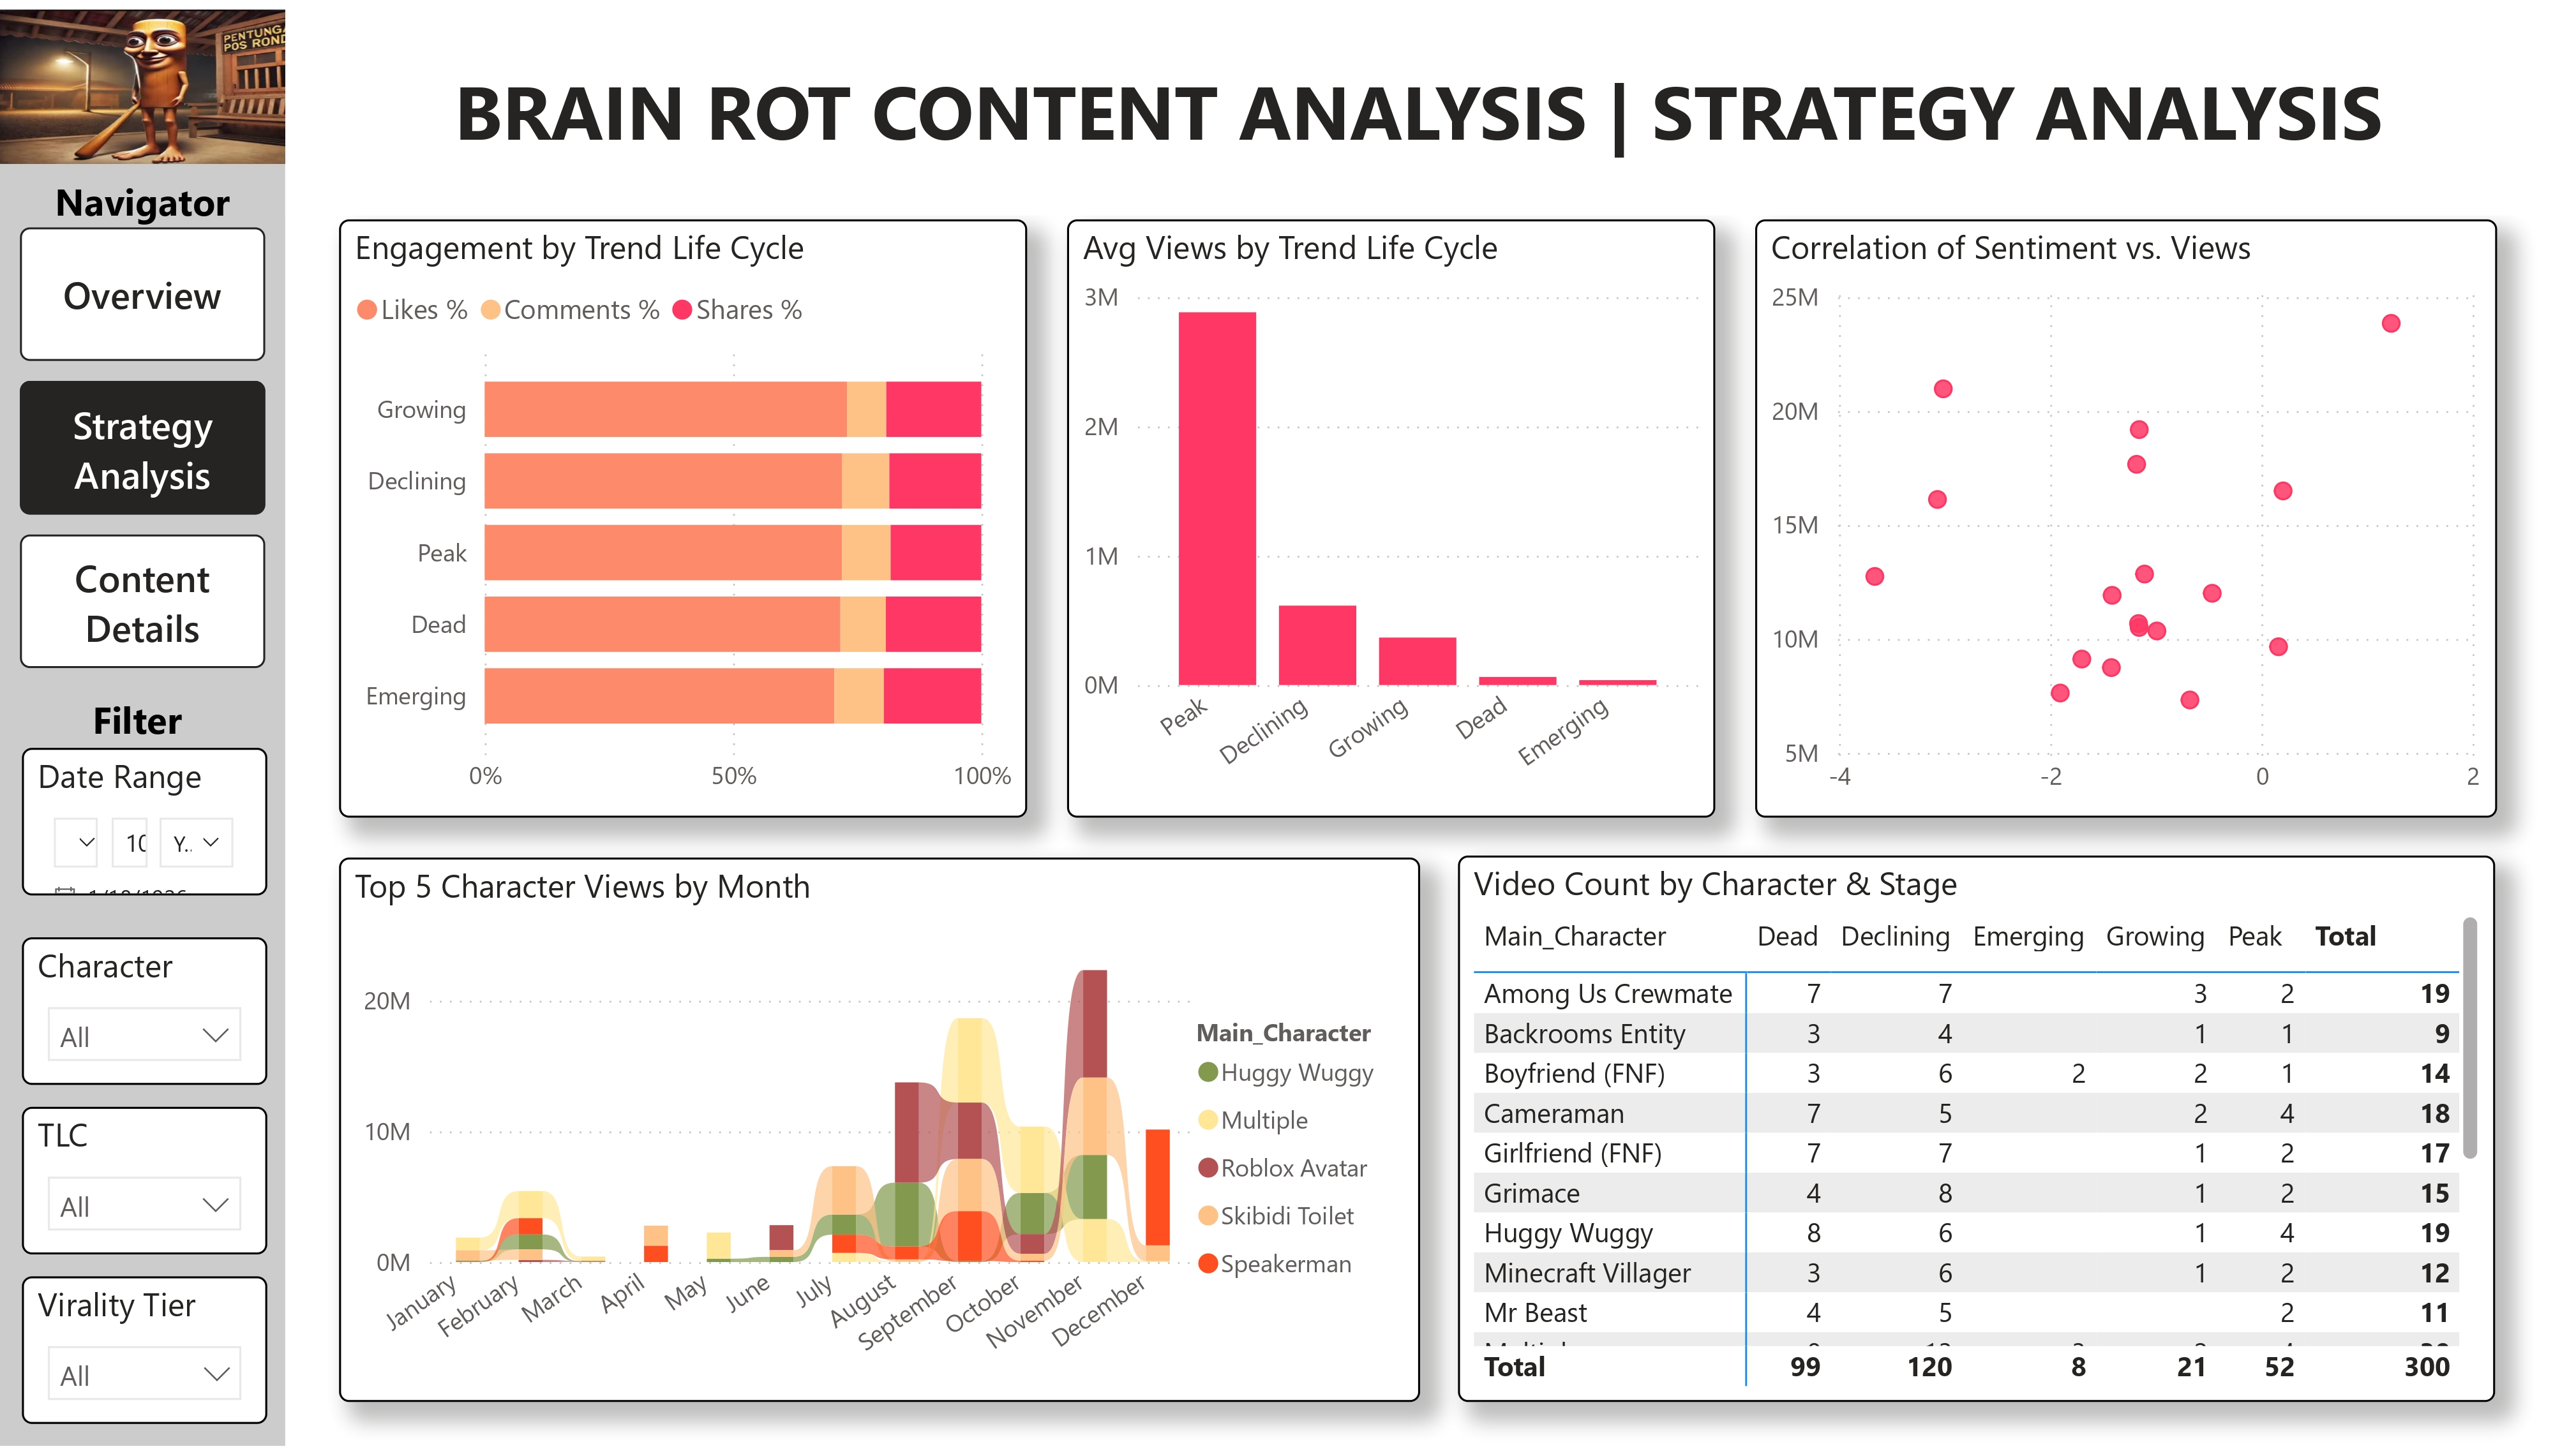

What the dashboard file says about the page in this screenshot:
{"tool":"powerbi","page":{"name":"Strategy Analysis","canvas":[1280,720],"ordinal":1},"visuals":[{"type":"hundredPercentStackedBarChart","title":"Engagement by Trend Life Cycle","fields":{"Category":["Dim_Video.Trend_Life_Cycle"],"Y":["Dim_Performance.Likes %","Dim_Performance.Comments %","Dim_Performance.Shares %"]},"box":[170,105,345,300],"z":0},{"type":"ribbonChart","title":"Top 5 Character Views by Month","fields":{"Series":["Dim_Video.Main_Character"],"Y":["Dim_Performance.Total_Views"],"Category":["Calendar.Upload_Date.Variation.Date Hierarchy.Month"]},"box":[170,425,541.7,273.3],"z":1000},{"type":"clusteredColumnChart","title":"Avg Views by Trend Life Cycle","fields":{"Category":["Dim_Video.Trend_Life_Cycle"],"Y":["Dim_Performance.Avg Views"]},"box":[535,105,325,300],"z":2000},{"type":"scatterChart","title":"Correlation of Sentiment vs. Views","fields":{"X":["Dim_Performance.Sentiment_Score"],"Y":["Dim_Performance.Total_Views"],"Category":["Dim_Video.Main_Character"]},"box":[880,105,371.7,300],"z":3000},{"type":"pivotTable","title":"Video Count by Character & Stage","fields":{"Rows":["Dim_Video.Main_Character"],"Columns":["Dim_Video.Trend_Life_Cycle"],"Values":["Dim_Performance.Video count"]},"box":[731.4,424.3,520,274.3],"z":4000},{"type":"shape","box":[0,0,143.1,720],"z":5000},{"type":"textbox","box":[143.3,20,1136.7,83.3],"z":6000},{"type":"slicer","title":"Date Range","fields":{"Values":["Dim_Video.Upload_Date"]},"box":[11.1,370.3,122.9,74.3],"z":7000},{"type":"slicer","title":"Character","fields":{"Values":["Dim_Video.Main_Character"]},"box":[11.1,464.6,122.9,74.3],"z":8000},{"type":"slicer","title":"TLC","fields":{"Values":["Dim_Video.Trend_Life_Cycle"]},"box":[11.1,550.3,122.9,74.3],"z":9000},{"type":"slicer","title":"Virality Tier","fields":{"Values":["Dim_Performance.Virality Tier"]},"box":[10.8,634.7,123.3,74.4],"z":10000},{"type":"textbox","box":[35.6,338.1,65.6,43.3],"z":11000},{"type":"pageNavigator","box":[10.2,109.2,123.3,223.3],"z":12000},{"type":"textbox","box":[4,77.6,135,44],"z":13000},{"type":"image","box":[0,0,142.9,77.1],"z":14000}]}

Visuals, with their boxes on the page's 1280x720 design canvas (x1, y1, x2, y2). These are canvas units, not pixel positions in the 2553x1456 screenshot, which may show the page scaled, cropped or inside an application window:
"Engagement by Trend Life Cycle" hundredPercentStackedBarChart: (170, 105, 515, 405)
"Top 5 Character Views by Month" ribbonChart: (170, 425, 712, 698)
"Avg Views by Trend Life Cycle" clusteredColumnChart: (535, 105, 860, 405)
"Correlation of Sentiment vs. Views" scatterChart: (880, 105, 1252, 405)
"Video Count by Character & Stage" pivotTable: (731, 424, 1251, 699)
shape: (0, 0, 143, 720)
textbox: (143, 20, 1280, 103)
"Date Range" slicer: (11, 370, 134, 445)
"Character" slicer: (11, 465, 134, 539)
"TLC" slicer: (11, 550, 134, 625)
"Virality Tier" slicer: (11, 635, 134, 709)
textbox: (36, 338, 101, 381)
pageNavigator: (10, 109, 134, 332)
textbox: (4, 78, 139, 122)
image: (0, 0, 143, 77)
